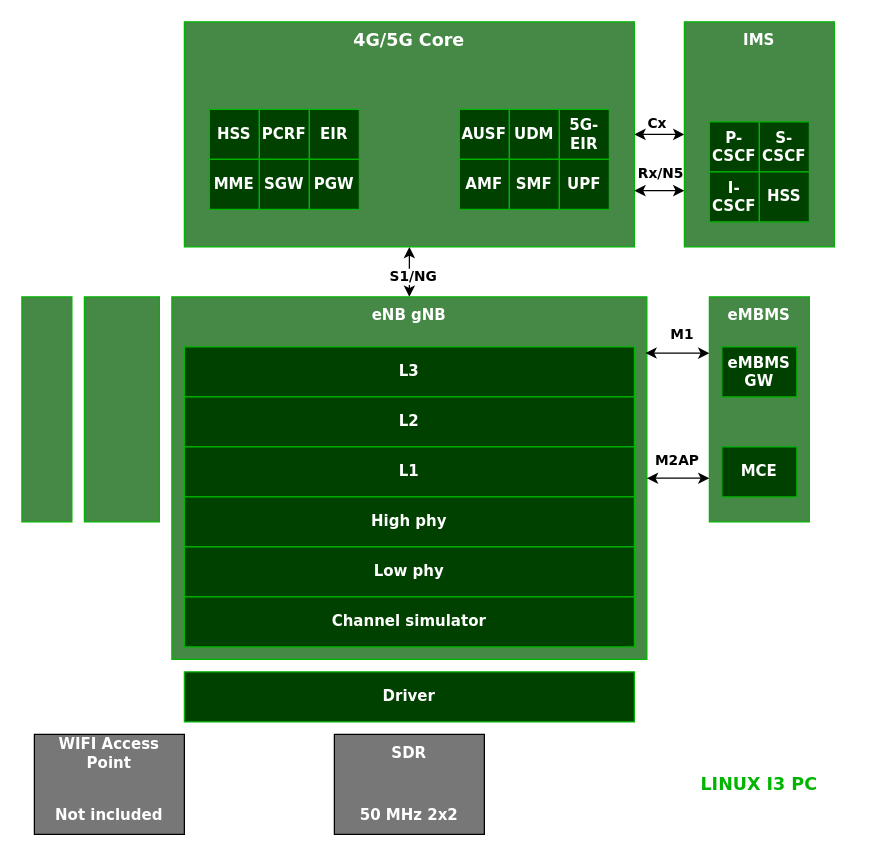
This 881x856 diagram has some shape labels left out. The shapes that lost their labels are listed below. From the top down, each one's centre as x and y in pixels, then its label:
At point (46, 409): "ePDG".
At point (121, 409): "N3IWF".
